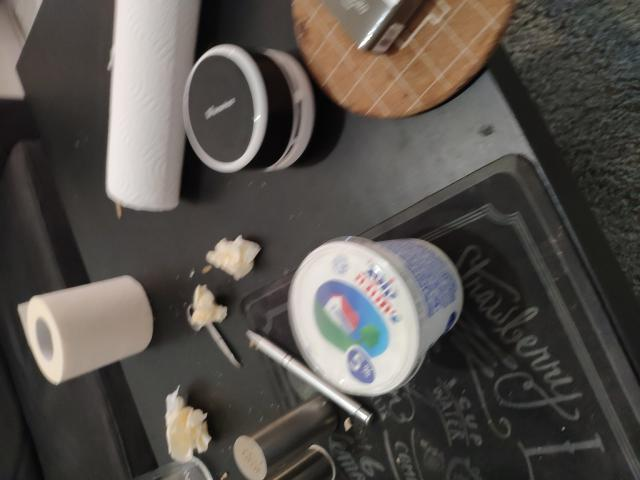cotage: (298, 245, 472, 396)
